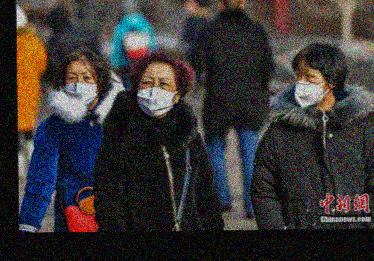with_mask: (136, 73, 177, 117), (293, 64, 328, 106), (62, 69, 96, 102)
